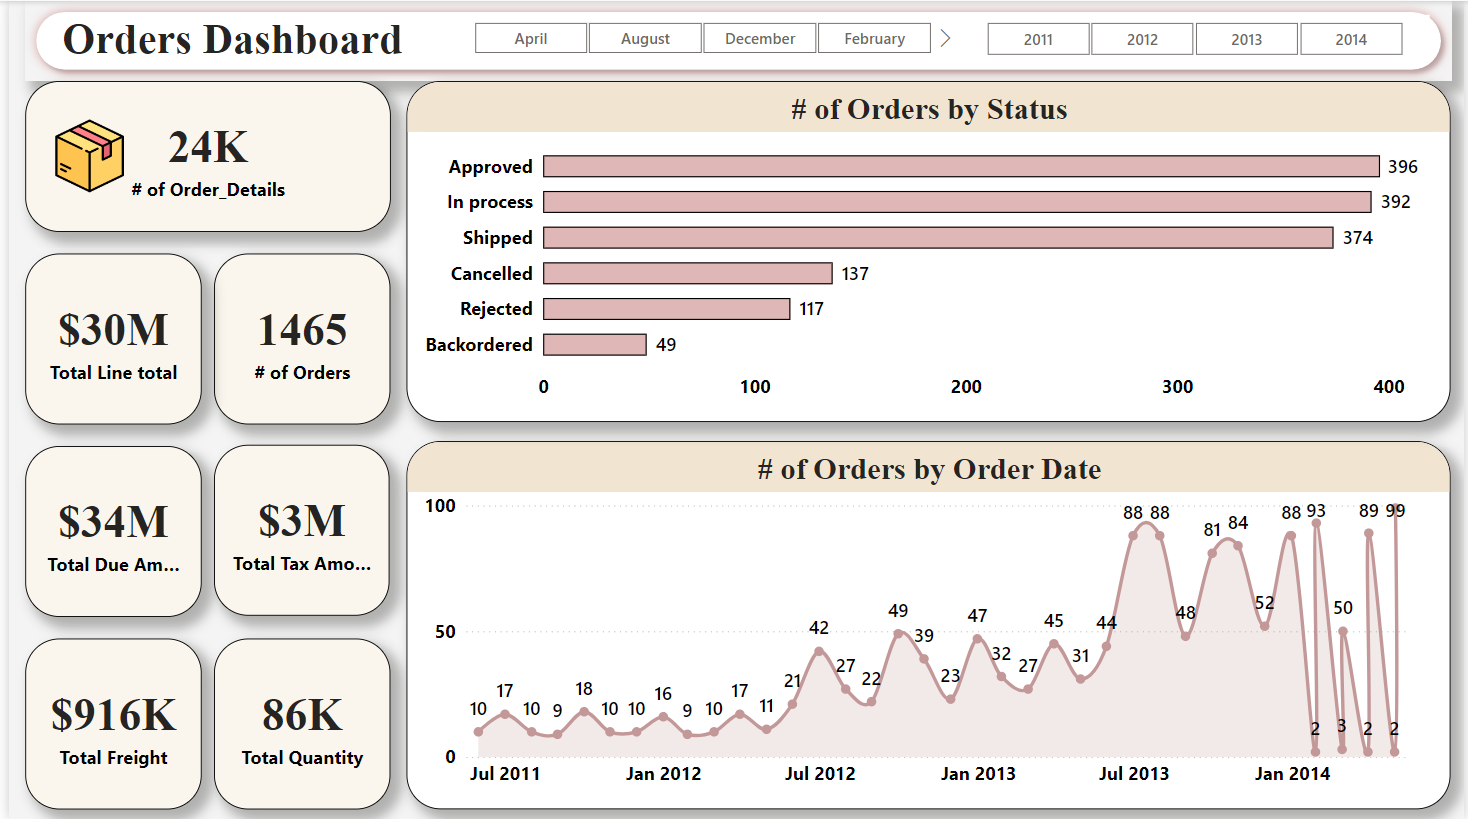

Layout of this report page (visuals, bound fields, positions):
{"tool":"powerbi","page":{"name":"Report 1","canvas":[1280,720],"ordinal":0},"visuals":[{"type":"shape","box":[13.8,0,1255,70],"z":0},{"type":"card","fields":{"Values":["Fact_Sales.# of Order_Details"]},"box":[13.8,70,321.2,132.5],"z":1000},{"type":"card","fields":{"Values":["Fact_Sales.# of Orders"]},"box":[180,222.5,155,150],"z":2000},{"type":"card","fields":{"Values":["Fact_Sales.Total Due Amount"]},"box":[13.8,391.2,155,150],"z":3000},{"type":"card","fields":{"Values":["Fact_Sales.Total Freight"]},"box":[13.8,561.2,155,150],"z":4000},{"type":"card","fields":{"Values":["Fact_Sales.Total Line total"]},"box":[13.8,222.5,155,150],"z":5000},{"type":"card","fields":{"Values":["Fact_Sales.Total Quantity"]},"box":[180,561.2,155,150],"z":6000},{"type":"card","fields":{"Values":["Fact_Sales.Total Tax Amount"]},"box":[180.2,390.7,154.7,150],"z":7000},{"type":"image","box":[33.8,97.5,73.8,77.5],"z":8000},{"type":"lineChart","title":"# of Orders by Order Date","fields":{"Category":["Fact_Sales.OrderDate"],"Y":["Fact_Sales.# of Orders"]},"box":[350,387.5,918.8,323.8],"z":9000},{"type":"barChart","fields":{"Y":["Fact_Sales.# of Orders"],"Category":["Dim_Statues.Status"]},"box":[350,70,918.8,300],"z":10000},{"type":"textbox","box":[41.9,7,481.4,54.7],"z":11000},{"type":"slicer","fields":{"Values":["Dim_Date.Year"]},"box":[834.9,11.6,415.1,41.9],"z":11001},{"type":"slicer","fields":{"Values":["Dim_Date.Month Name"]},"box":[383.7,11.6,451.2,36],"z":11002}]}

Visuals, with their boxes in screenshot pixels (x1, y1, x2, y2), scaled from the page's 1280x720 canvas onto the 1468x819 screenshot:
shape: rect(16, 0, 1455, 80)
card - Fact_Sales.# of Order_Details: rect(16, 80, 384, 230)
card - Fact_Sales.# of Orders: rect(206, 253, 384, 424)
card - Fact_Sales.Total Due Amount: rect(16, 445, 194, 616)
card - Fact_Sales.Total Freight: rect(16, 638, 194, 809)
card - Fact_Sales.Total Line total: rect(16, 253, 194, 424)
card - Fact_Sales.Total Quantity: rect(206, 638, 384, 809)
card - Fact_Sales.Total Tax Amount: rect(207, 444, 384, 615)
image: rect(39, 111, 123, 199)
"# of Orders by Order Date" lineChart: rect(401, 441, 1455, 809)
barChart - Fact_Sales.# of Orders x Dim_Statues.Status: rect(401, 80, 1455, 421)
textbox: rect(48, 8, 600, 70)
slicer - Dim_Date.Year: rect(958, 13, 1434, 61)
slicer - Dim_Date.Month Name: rect(440, 13, 958, 54)
